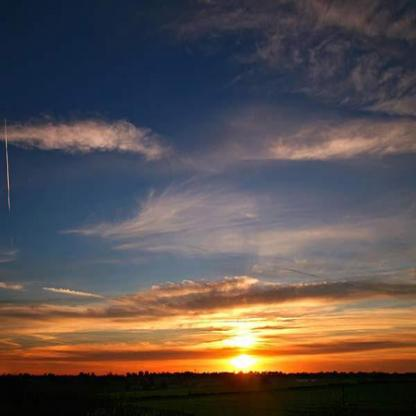other: (206, 307, 283, 376)
